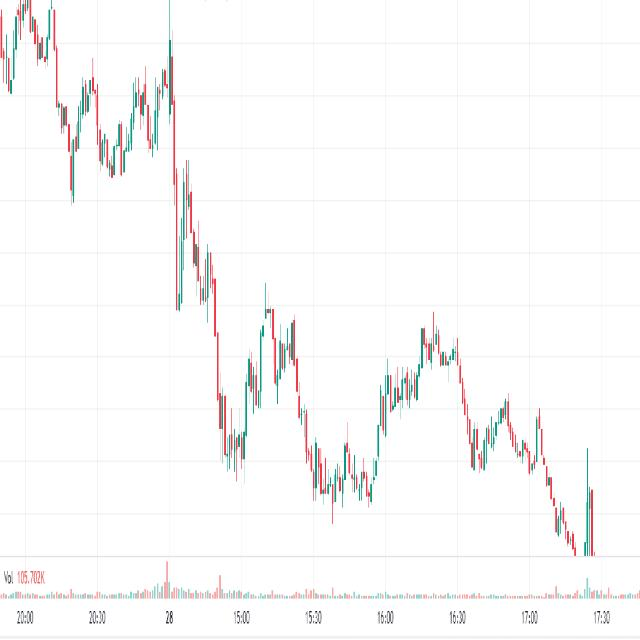Falling-Wedge: (78, 30, 374, 526), (453, 370, 583, 483)
Head-Shoulders: (229, 280, 326, 516)
